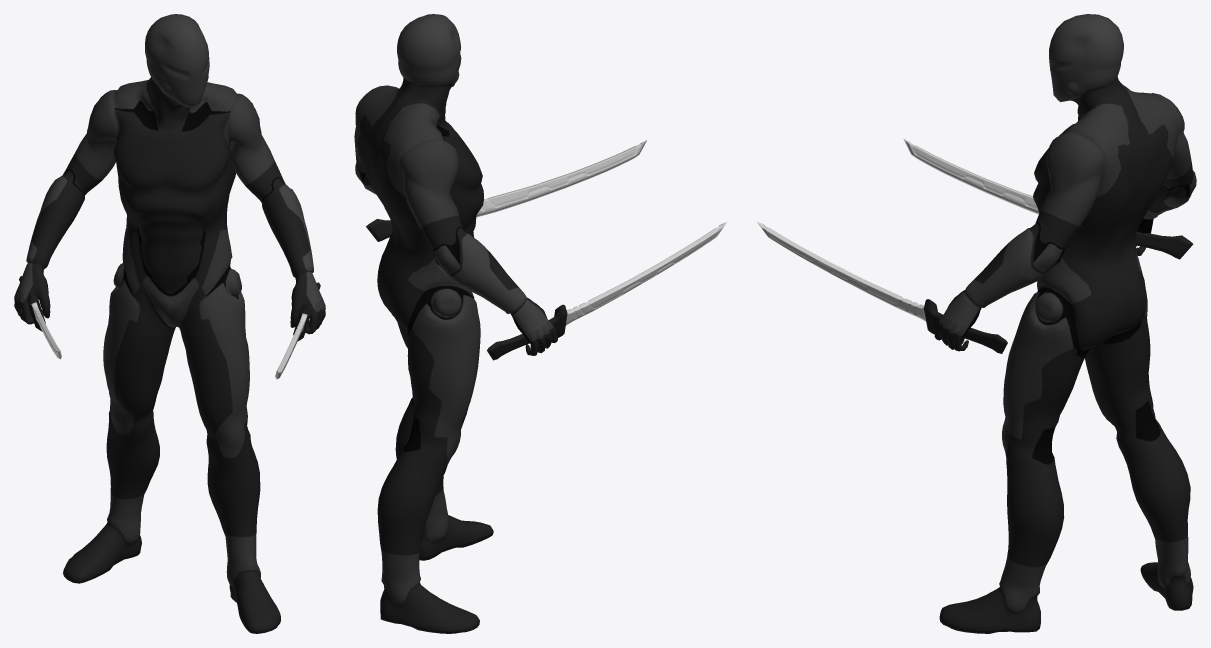
The picture shows the model from 3 angles, left to right: view 1: azimuth 30°, elevation 25°; view 2: azimuth 150°, elevation 25°; view 3: azimuth 270°, elevation 25°; orthographic projection. The views are drawn at different scales.
Visible parts, largest first — view 1: Cyborg_Ninja_Killer, Sword_l, Sword_l001; view 2: Cyborg_Ninja_Killer, Sword_l001, Sword_l; view 3: Cyborg_Ninja_Killer, Sword_l, Sword_l001.
Boxes of the visible parts, x1,y1,x2,y2 form: Cyborg_Ninja_Killer: (14, 14, 325, 633); Sword_l: (275, 282, 320, 379); Sword_l001: (19, 276, 61, 359); Cyborg_Ninja_Killer: (354, 14, 557, 633); Sword_l001: (487, 222, 726, 360); Sword_l: (366, 140, 646, 241); Cyborg_Ninja_Killer: (934, 14, 1196, 633); Sword_l: (756, 221, 1007, 353); Sword_l001: (903, 138, 1193, 259).
Size of the model in its own units: 104 by 182 by 123.
Materials: 2 (2 with a texture image).
